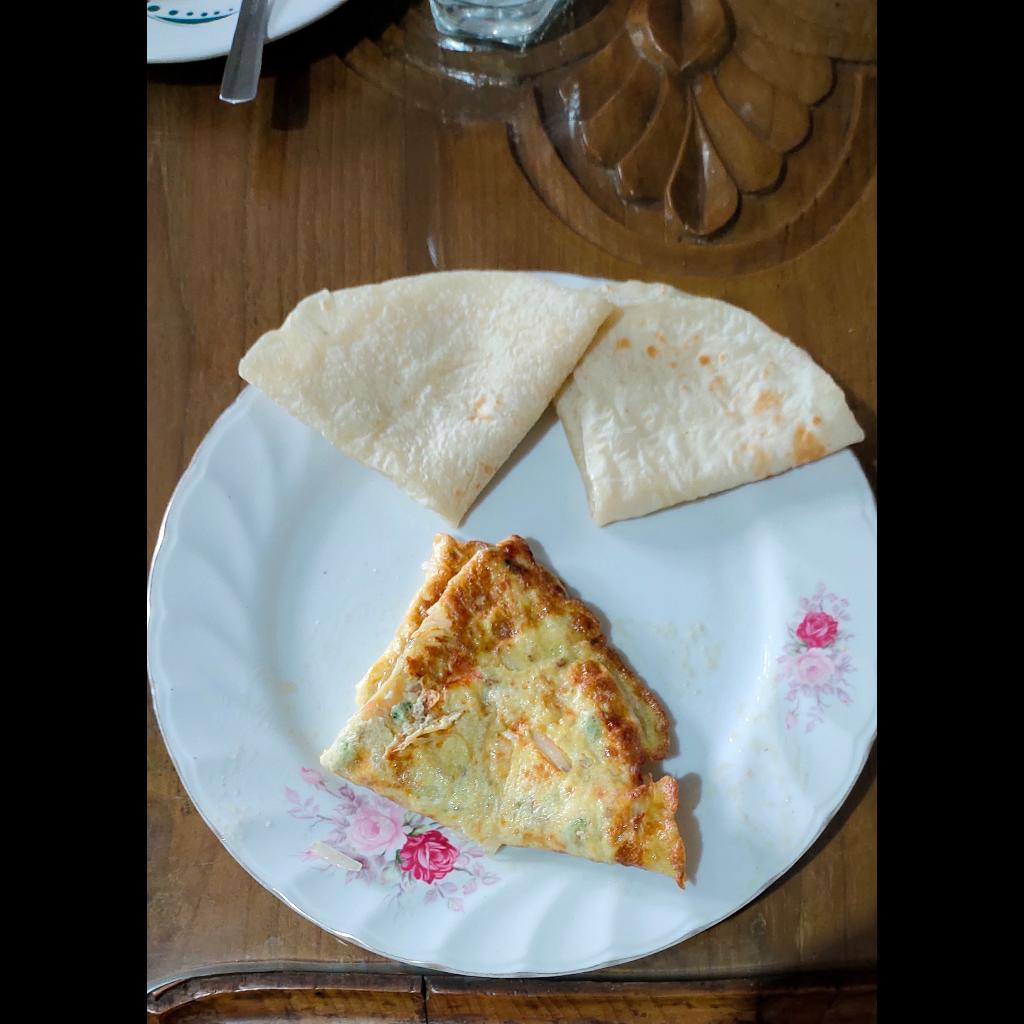egg-poached: (315, 526, 688, 879)
ruti: (240, 271, 863, 528)
